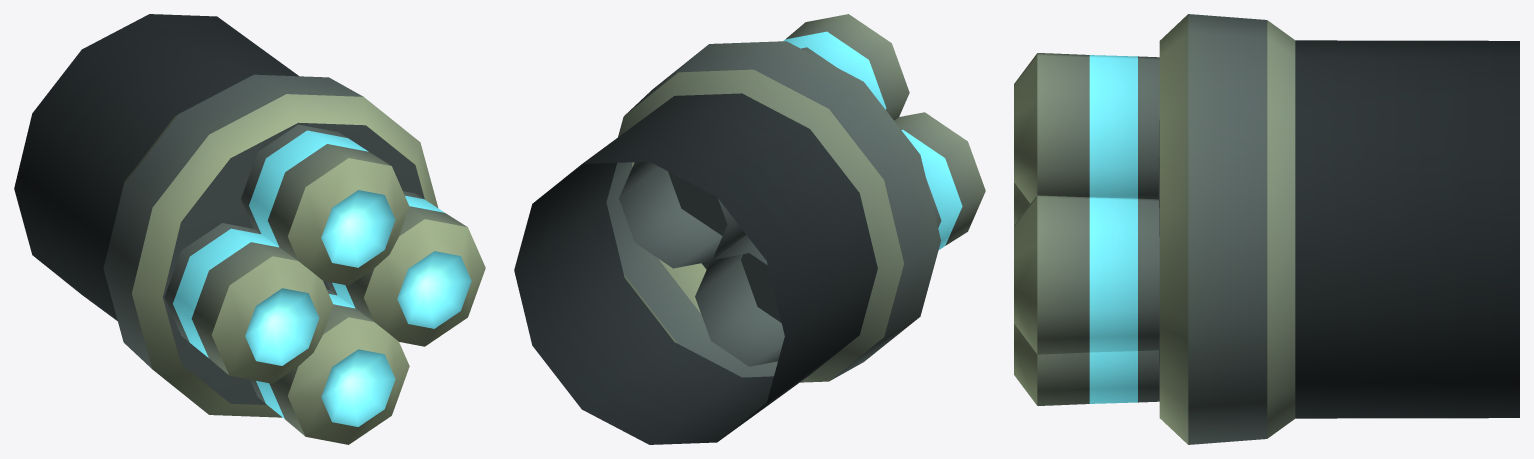
Rendered from matt-gun-barrel.glb.
3 views of the same model, side by side, from view 1: azimuth 30°, elevation 25°; view 2: azimuth 150°, elevation 25°; view 3: azimuth 270°, elevation 25° (orthographic). The views are drawn at different scales.
Visible parts, largest first — view 1: turret_gun_barrel; view 2: turret_gun_barrel; view 3: turret_gun_barrel.
Boxes of the visible parts, box(x1,y1,x2,y2) form: turret_gun_barrel: box(14, 14, 485, 444); turret_gun_barrel: box(514, 14, 985, 444); turret_gun_barrel: box(1014, 14, 1519, 444).
Size of the model in its own units: 0.895 by 0.895 by 1.05.
Materials: 1 (1 with a texture image).
